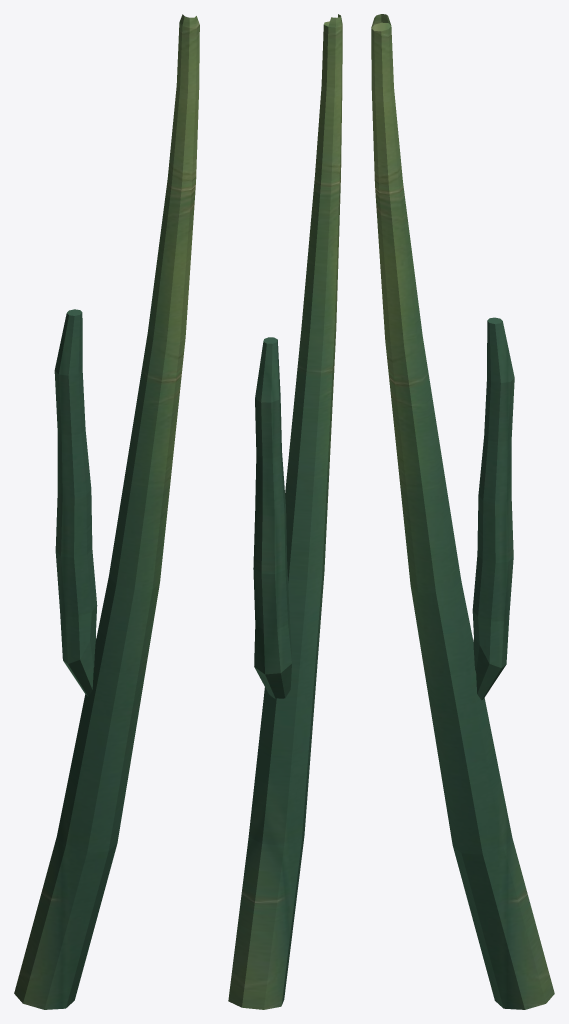
Rendered from cactus.fbx.
The picture shows the model from 3 angles, left to right: view 1: azimuth 90°, elevation 25°; view 2: azimuth 150°, elevation 25°; view 3: azimuth 270°, elevation 25°; orthographic projection. The views are drawn at different scales.
Visible parts, largest first — view 1: Cylinder; view 2: Cylinder; view 3: Cylinder.
Boxes of the visible parts, x1=… form: Cylinder: x1=14, y1=14, x2=199, y2=1009; Cylinder: x1=228, y1=14, x2=342, y2=1009; Cylinder: x1=371, y1=14, x2=554, y2=1009.
Bounding box in the file's own units: 13.52 × 242 × 41.09.
